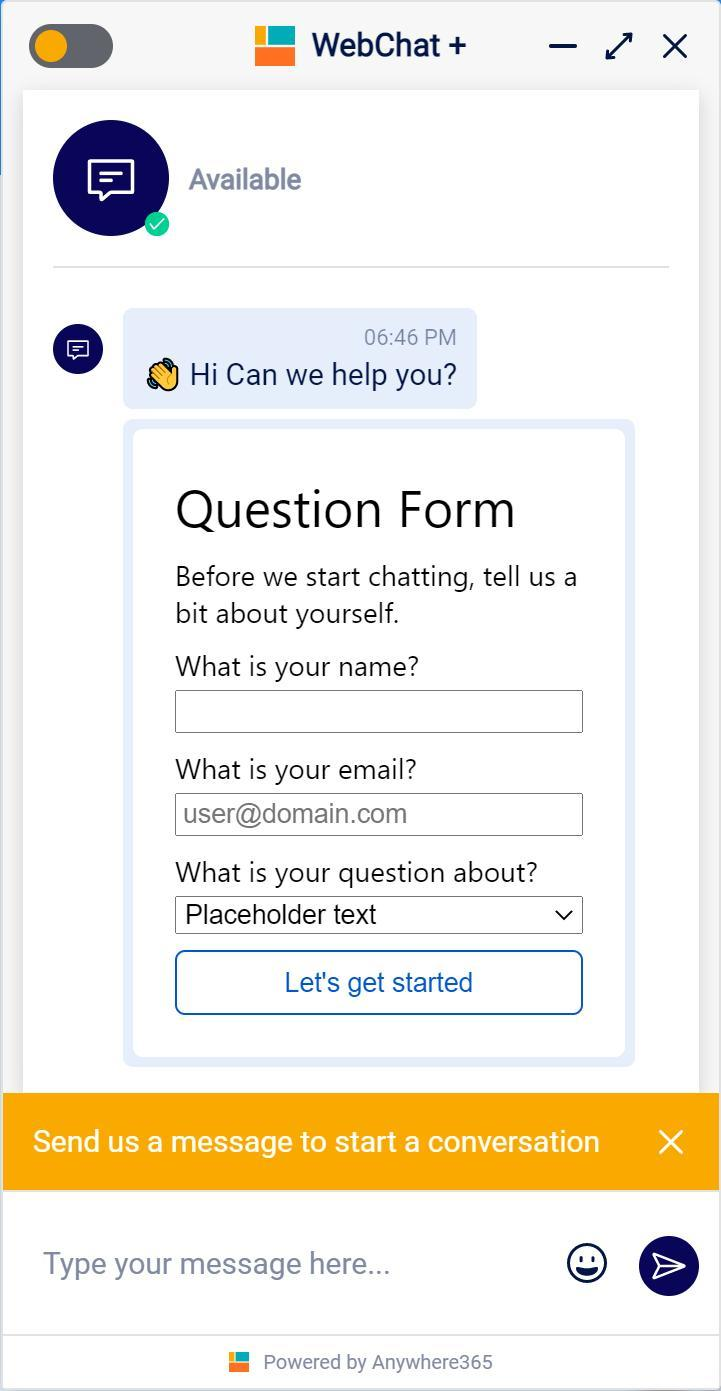button: (174, 950, 586, 1018)
dropdown: (174, 894, 586, 936)
icon: (81, 153, 144, 208), (593, 21, 641, 70), (568, 1239, 610, 1294), (647, 1245, 690, 1292), (543, 27, 590, 70), (657, 25, 697, 70), (653, 1120, 688, 1163), (445, 25, 472, 66), (64, 339, 94, 364)
input: (177, 688, 586, 737), (172, 790, 584, 837)
label: (169, 850, 548, 887), (166, 648, 421, 684), (170, 751, 422, 785)
switch: (23, 19, 119, 72)
